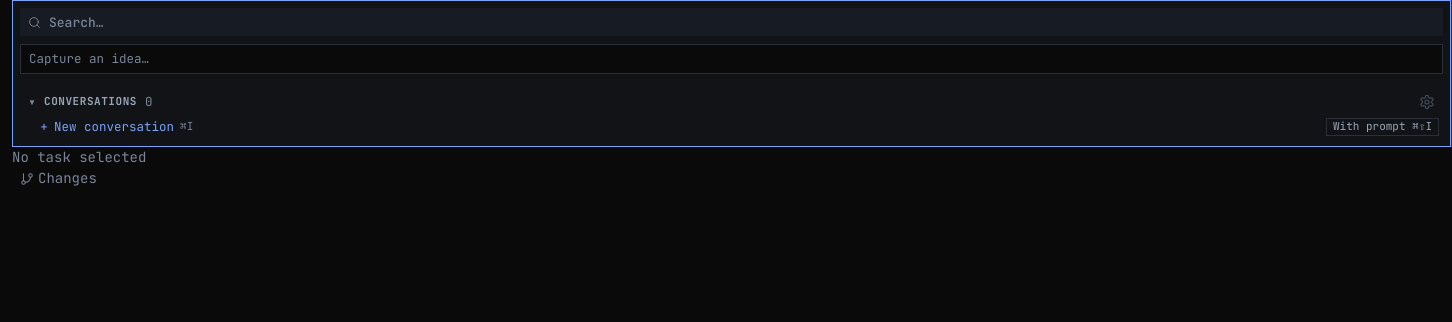
Scenario: overhaul acceptance, Changes workspace recovery › [overhaul-334] keeps Back usable while Changes is loading
Click the button with aria-label "Open module Changes" at (58, 179), box [12,168,105,190]
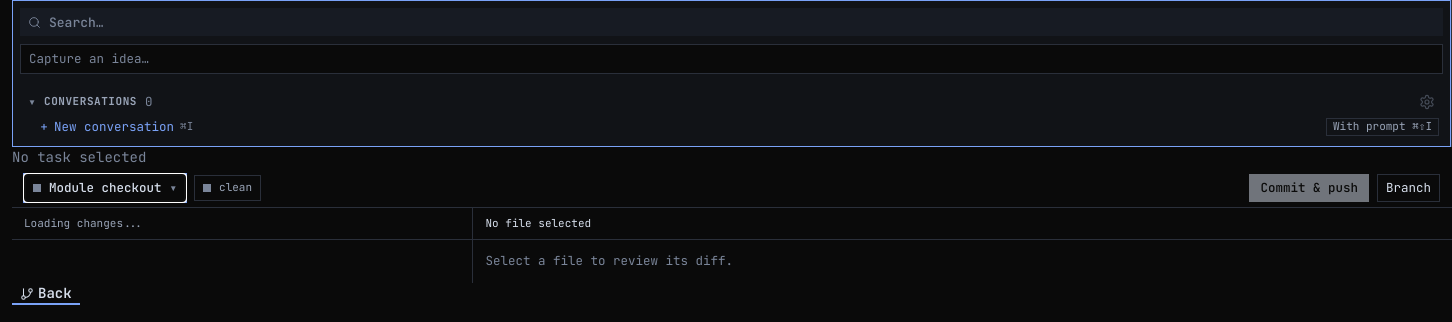
Check: the text "Loading changes..." is shown, box [24,216,143,232]
Click the button with aria-label "Back to planning workspace" at (46, 294), box [12,283,80,305]
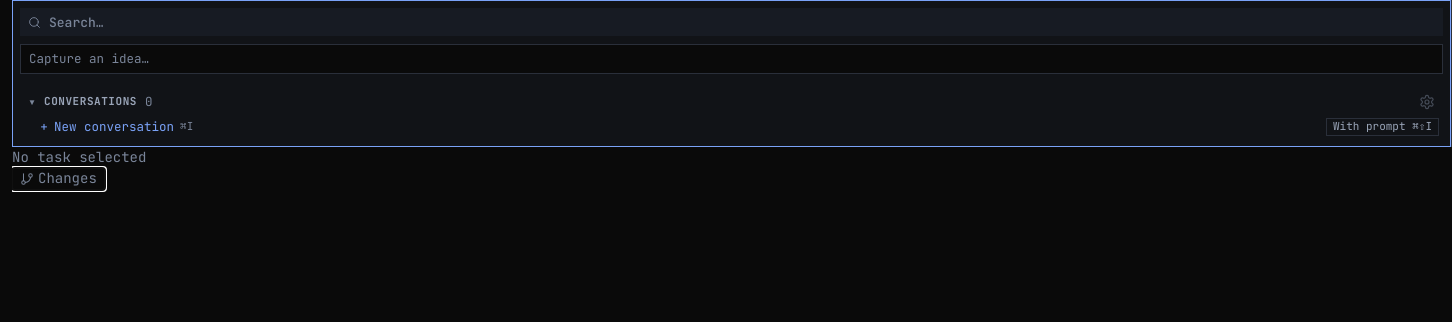
Check: the button with aria-label "Open module Changes" is enabled, box [12,168,105,190]
Check: the element with test id "independent-changes-workspace" is gone
